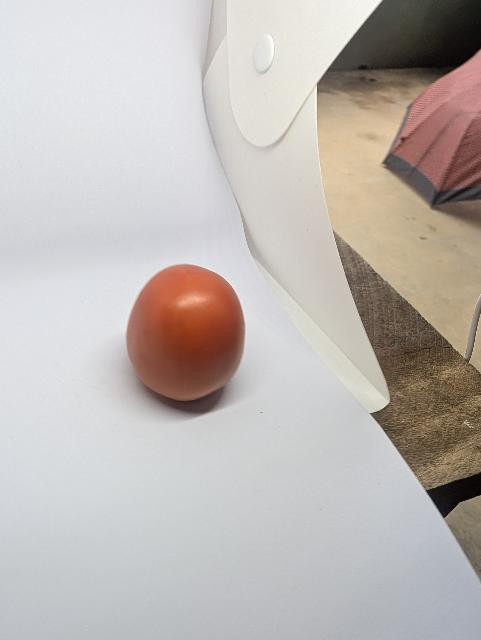red: (113, 248, 263, 421)
